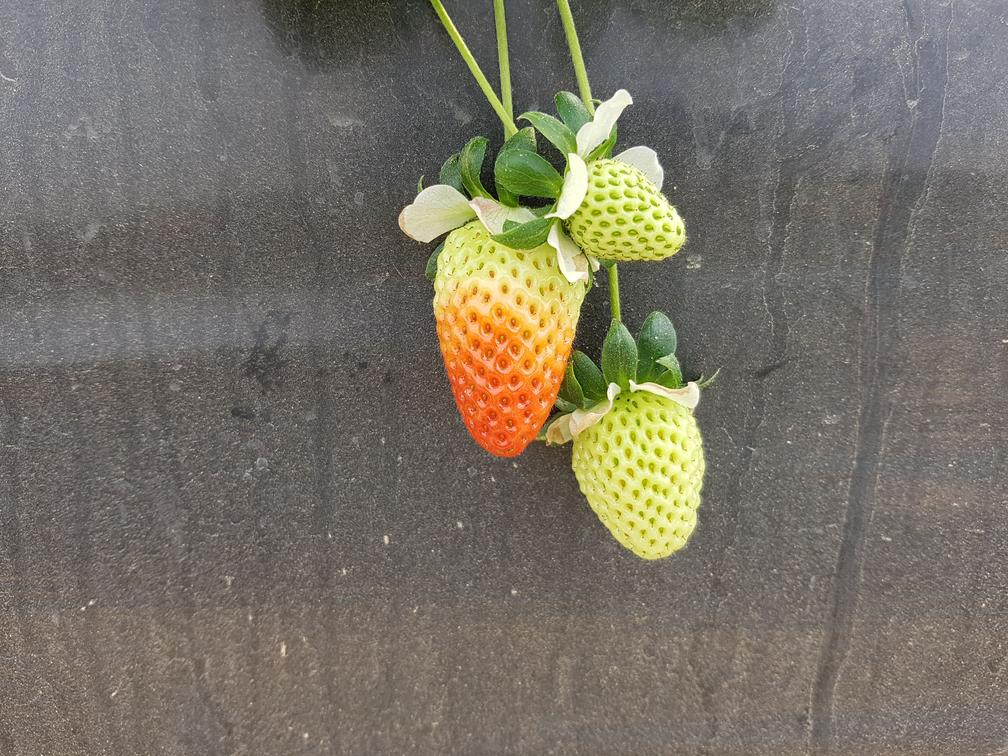Ripe: (433, 222, 588, 471)
Unripe: (566, 384, 713, 563), (568, 152, 695, 268)
